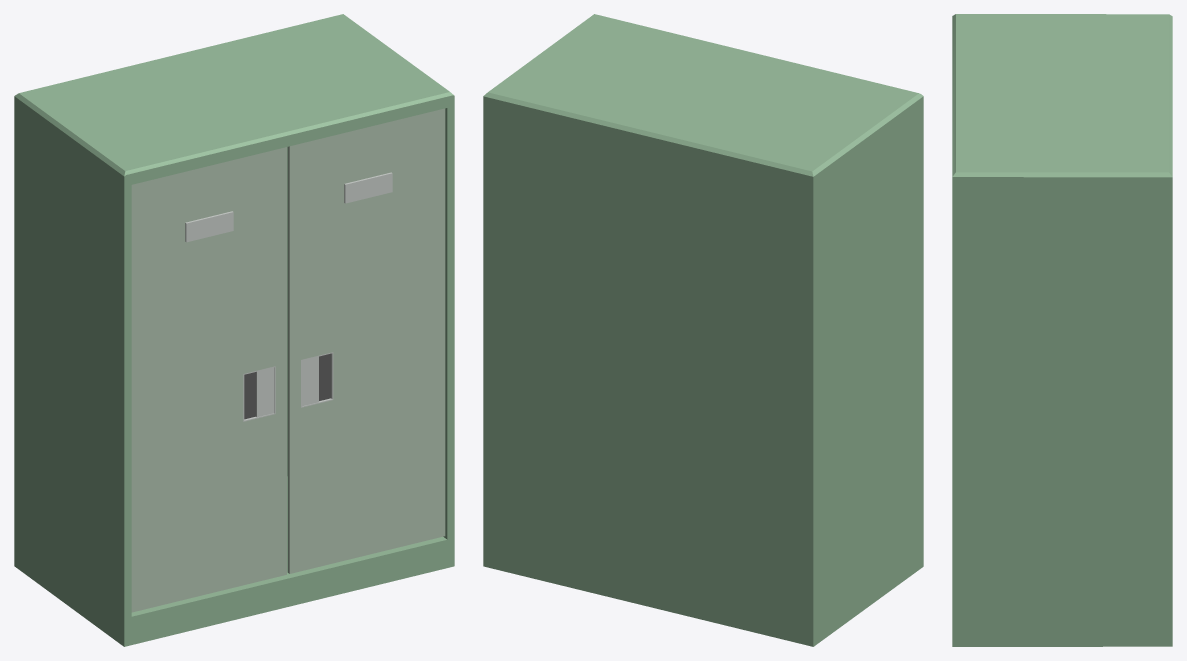
The model's file is cabinet_02_0324.fbx.
The picture shows the model from 3 angles, left to right: view 1: azimuth 30°, elevation 25°; view 2: azimuth 150°, elevation 25°; view 3: azimuth 270°, elevation 25°; orthographic projection.
Parts seen in each view (by area): view 1: body, door_2, door_1; view 2: body; view 3: body.
Part boxes in pixels (x1,y1,x2,y2): body: (14,14,454,646); door_2: (287,108,445,573); door_1: (131,147,286,612); body: (483,14,923,646); body: (952,14,1172,646).
Size of the model in its own units: 243 by 333 by 140.
1 material, 1 textured.
